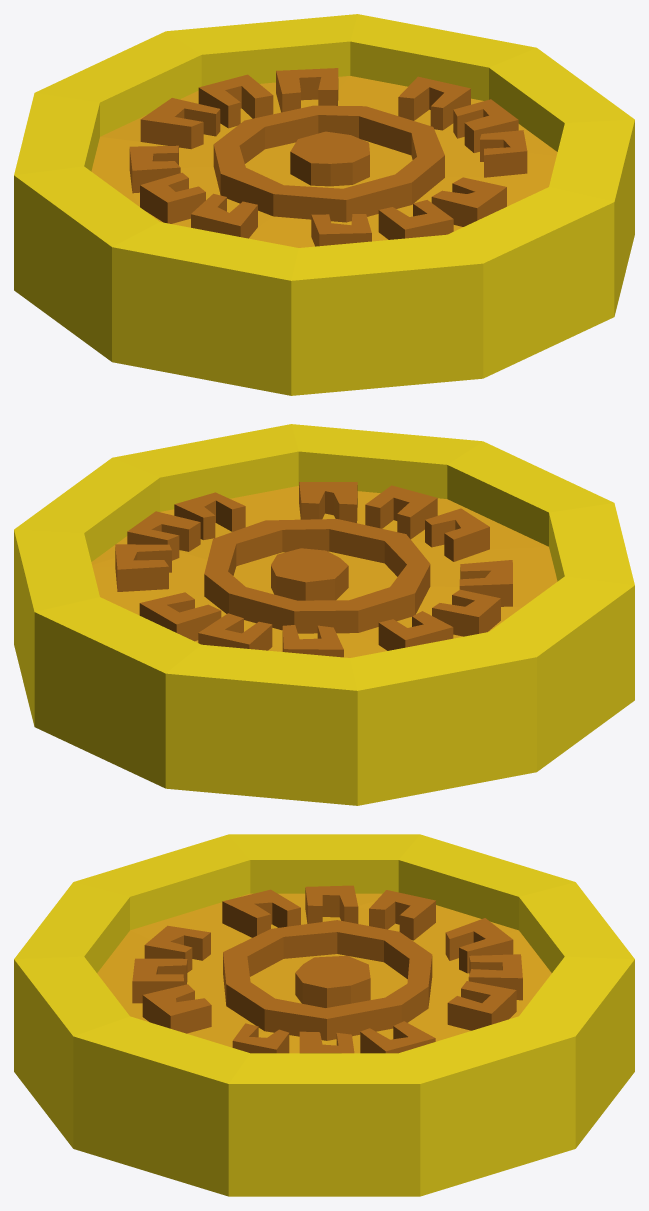
The model's file is gold_coin.glb.
3 renders of one model, top to bottom at view 1: azimuth 30°, elevation 25°; view 2: azimuth 150°, elevation 25°; view 3: azimuth 270°, elevation 25°, orthographic. The views are drawn at different scales.
Visible parts, largest first — view 1: Cylinder; view 2: Cylinder; view 3: Cylinder.
Boxes of the visible parts, box(x1,y1,x2,y2) form: Cylinder: box(14, 14, 634, 395); Cylinder: box(14, 424, 634, 805); Cylinder: box(14, 834, 634, 1196).
Bounding box in the file's own units: 2.02 × 0.4436 × 2.12.
